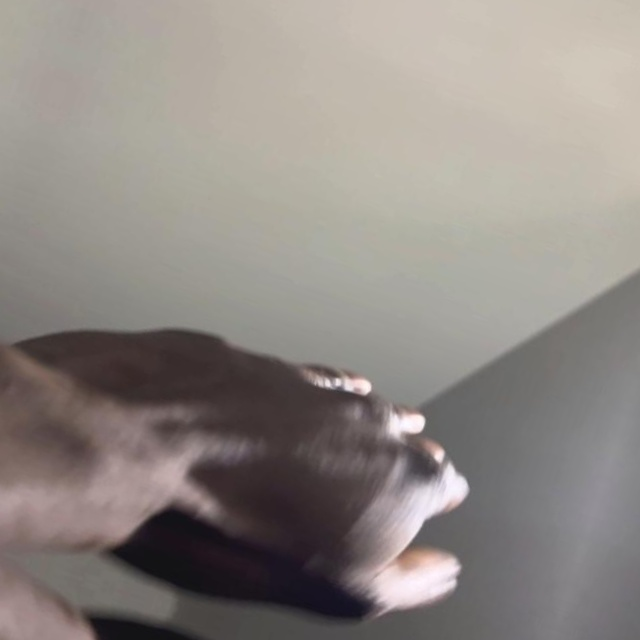Paper: (0, 269, 513, 640)
